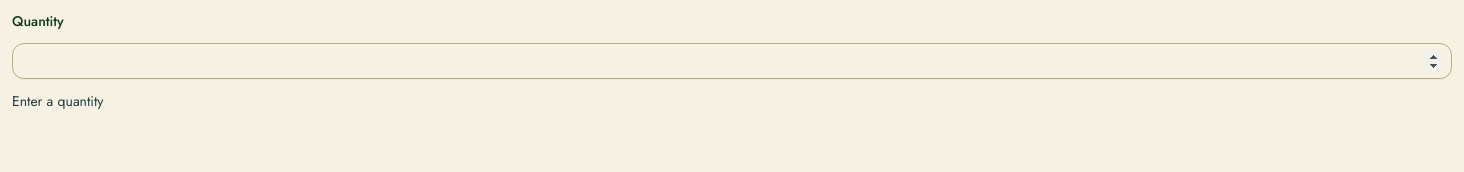
it: NumberField › numbers between letters
Type "abc2t6" into the number field labelled "Quantity". click: (732, 61)
box: [12,43,1452,79]
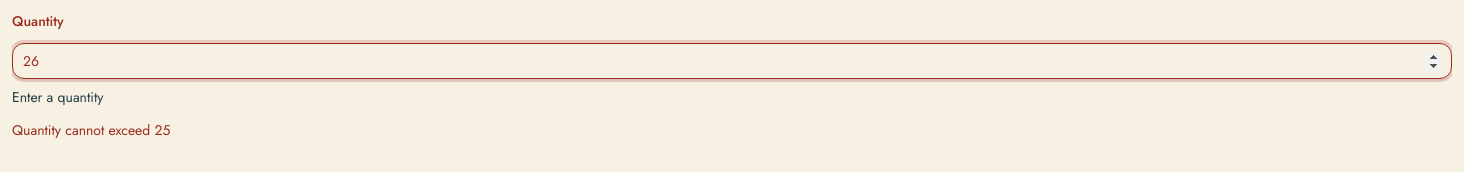
Result: the number field labelled "Quantity" holds "26" at [12,43,1452,79]
